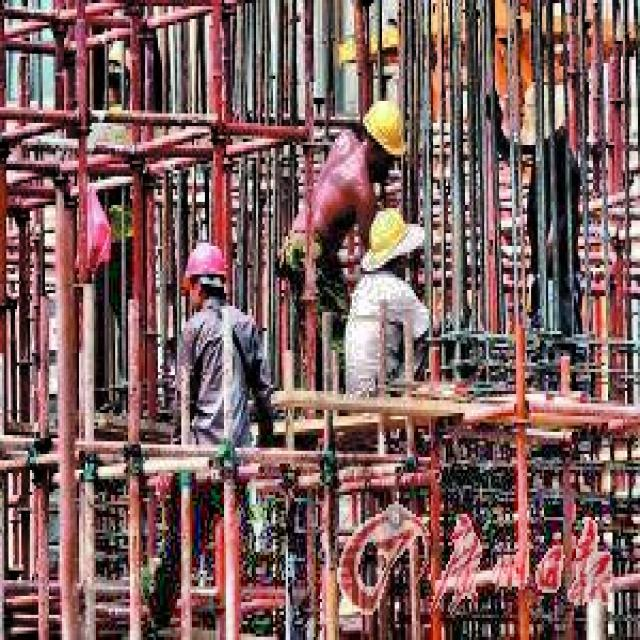helmet: (358, 95, 408, 176), (367, 205, 418, 281), (182, 240, 230, 315)
